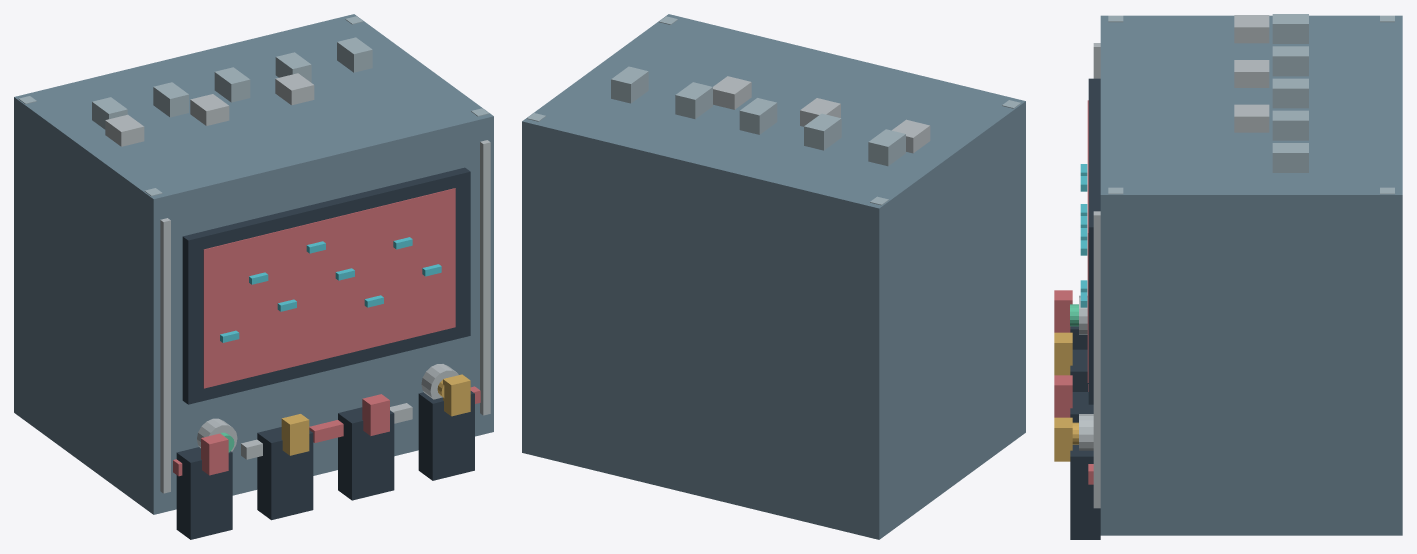
The model's file is 47_L72_PurgeInterlockProtectionRelay.glb.
3 views of the same model, side by side, from view 1: azimuth 30°, elevation 25°; view 2: azimuth 150°, elevation 25°; view 3: azimuth 270°, elevation 25° (orthographic). The views are drawn at different scales.
Parts seen in each view (by area): view 1: PurgeInterlockProtectionRelay_Part_000, PurgeInterlockProtectionRelay_Part_008, PurgeInterlockProtectionRelay_Part_007, PurgeInterlockProtectionRelay_Part_038, PurgeInterlockProtectionRelay_Part_036, PurgeInterlockProtectionRelay_Part_034, PurgeInterlockProtectionRelay_Part_040, PurgeInterlockProtectionRelay_Part_005, PurgeInterlockProtectionRelay_Part_006, PurgeInterlockProtectionRelay_Part_037, PurgeInterlockProtectionRelay_Part_035, PurgeInterlockProtectionRelay_Part_039 (+12 smaller); view 2: PurgeInterlockProtectionRelay_Part_000, PurgeInterlockProtectionRelay_Part_026, PurgeInterlockProtectionRelay_Part_024, PurgeInterlockProtectionRelay_Part_028, PurgeInterlockProtectionRelay_Part_027, PurgeInterlockProtectionRelay_Part_025, PurgeInterlockProtectionRelay_Part_023, PurgeInterlockProtectionRelay_Part_021, PurgeInterlockProtectionRelay_Part_022; view 3: PurgeInterlockProtectionRelay_Part_000, PurgeInterlockProtectionRelay_Part_007, PurgeInterlockProtectionRelay_Part_006, PurgeInterlockProtectionRelay_Part_040, PurgeInterlockProtectionRelay_Part_025, PurgeInterlockProtectionRelay_Part_027, PurgeInterlockProtectionRelay_Part_026, PurgeInterlockProtectionRelay_Part_024, PurgeInterlockProtectionRelay_Part_028, PurgeInterlockProtectionRelay_Part_021, PurgeInterlockProtectionRelay_Part_023, PurgeInterlockProtectionRelay_Part_022 (+8 smaller).
Boxes of the visible parts, x1=… form: PurgeInterlockProtectionRelay_Part_000: x1=14, y1=14, x2=493, y2=514; PurgeInterlockProtectionRelay_Part_008: x1=203, y1=188, x2=455, y2=388; PurgeInterlockProtectionRelay_Part_007: x1=182, y1=167, x2=470, y2=404; PurgeInterlockProtectionRelay_Part_038: x1=338, y1=407, x2=394, y2=500; PurgeInterlockProtectionRelay_Part_036: x1=257, y1=427, x2=313, y2=520; PurgeInterlockProtectionRelay_Part_034: x1=176, y1=447, x2=232, y2=539; PurgeInterlockProtectionRelay_Part_040: x1=418, y1=391, x2=474, y2=480; PurgeInterlockProtectionRelay_Part_005: x1=160, y1=218, x2=170, y2=493; PurgeInterlockProtectionRelay_Part_006: x1=480, y1=140, x2=490, y2=415; PurgeInterlockProtectionRelay_Part_037: x1=281, y1=414, x2=309, y2=455; PurgeInterlockProtectionRelay_Part_035: x1=201, y1=433, x2=228, y2=475; PurgeInterlockProtectionRelay_Part_039: x1=362, y1=394, x2=389, y2=435; PurgeInterlockProtectionRelay_Part_000: x1=522, y1=14, x2=1025, y2=539; PurgeInterlockProtectionRelay_Part_026: x1=739, y1=98, x2=777, y2=134; PurgeInterlockProtectionRelay_Part_024: x1=868, y1=129, x2=905, y2=166; PurgeInterlockProtectionRelay_Part_028: x1=611, y1=66, x2=648, y2=103; PurgeInterlockProtectionRelay_Part_027: x1=675, y1=82, x2=712, y2=119; PurgeInterlockProtectionRelay_Part_025: x1=804, y1=113, x2=841, y2=150; PurgeInterlockProtectionRelay_Part_023: x1=713, y1=76, x2=751, y2=109; PurgeInterlockProtectionRelay_Part_021: x1=892, y1=119, x2=930, y2=153; PurgeInterlockProtectionRelay_Part_022: x1=800, y1=98, x2=840, y2=126; PurgeInterlockProtectionRelay_Part_000: x1=1100, y1=15, x2=1402, y2=535; PurgeInterlockProtectionRelay_Part_007: x1=1088, y1=78, x2=1100, y2=404; PurgeInterlockProtectionRelay_Part_006: x1=1093, y1=211, x2=1100, y2=508; PurgeInterlockProtectionRelay_Part_040: x1=1070, y1=444, x2=1100, y2=539; PurgeInterlockProtectionRelay_Part_025: x1=1272, y1=46, x2=1308, y2=76; PurgeInterlockProtectionRelay_Part_027: x1=1272, y1=110, x2=1308, y2=140; PurgeInterlockProtectionRelay_Part_026: x1=1272, y1=78, x2=1308, y2=108; PurgeInterlockProtectionRelay_Part_024: x1=1272, y1=14, x2=1308, y2=43; PurgeInterlockProtectionRelay_Part_028: x1=1272, y1=143, x2=1308, y2=172; PurgeInterlockProtectionRelay_Part_021: x1=1234, y1=15, x2=1269, y2=43; PurgeInterlockProtectionRelay_Part_023: x1=1234, y1=104, x2=1269, y2=132; PurgeInterlockProtectionRelay_Part_022: x1=1234, y1=60, x2=1269, y2=87.
Size of the model in its own units: 0.97 by 0.9654 by 0.796.
